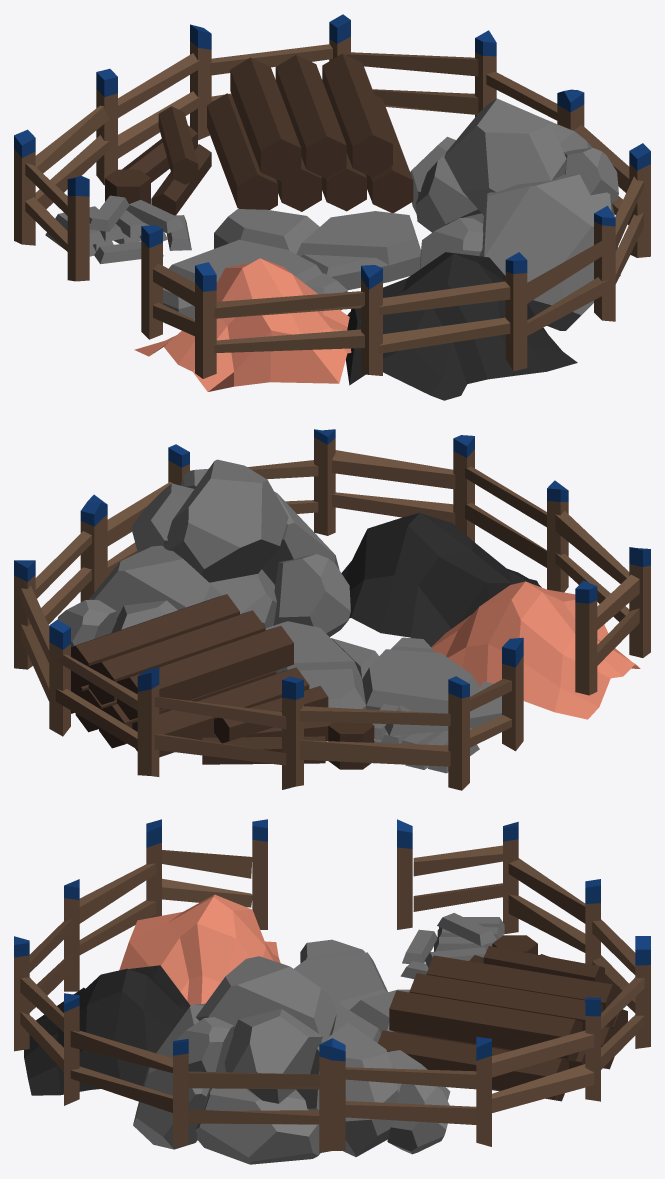
File: Storage LvL 1.fbx
3 views of the same model, one above another, from view 1: azimuth 30°, elevation 25°; view 2: azimuth 150°, elevation 25°; view 3: azimuth 270°, elevation 25° (orthographic).
Parts seen in each view (by area): view 1: Wood Logs, Team Color Obj.008; view 2: Wood Logs, Team Color Obj.008; view 3: Wood Logs, Team Color Obj.008.
Part boxes in pixels (bbox=[...]): Wood Logs: bbox=[14, 36, 650, 400]; Team Color Obj.008: bbox=[14, 14, 650, 291]; Wood Logs: bbox=[14, 437, 650, 790]; Team Color Obj.008: bbox=[14, 429, 650, 699]; Wood Logs: bbox=[14, 839, 650, 1164]; Team Color Obj.008: bbox=[14, 819, 650, 1061].
Bounding box in the file's own units: 134 × 49.36 × 159.
